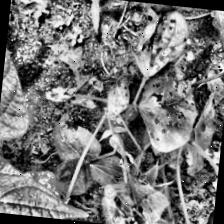ALS: (132, 73, 217, 154), (128, 2, 199, 80), (195, 9, 224, 71), (18, 167, 62, 196)
